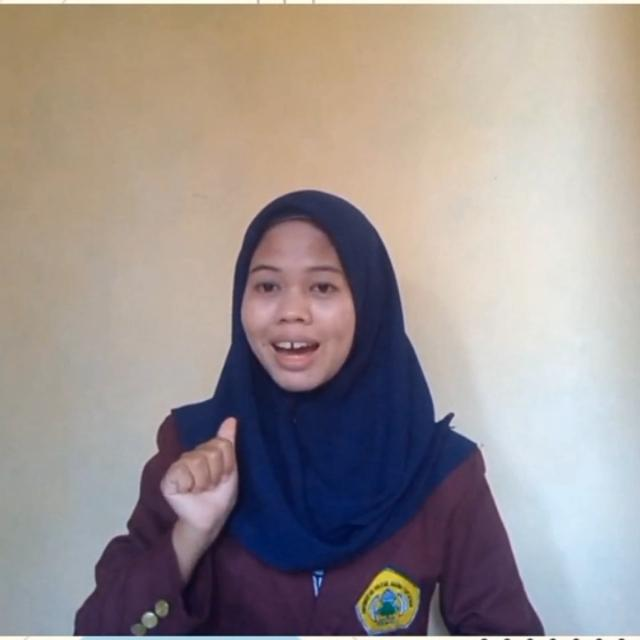A: (154, 414, 266, 542)
